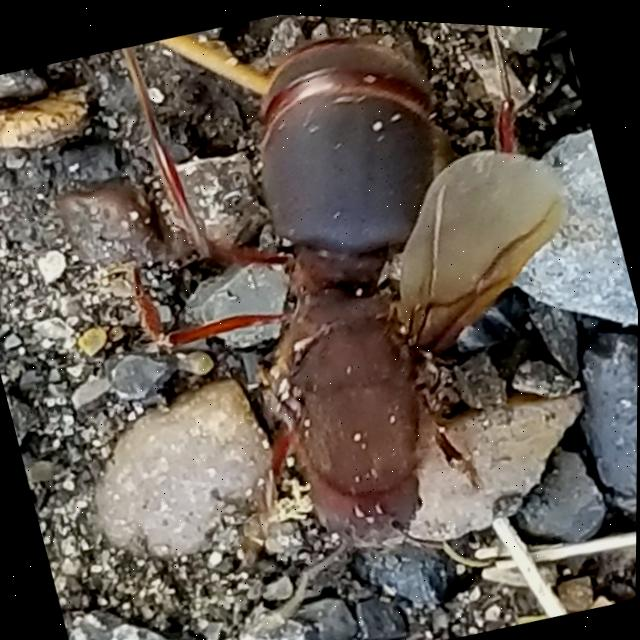Alive-Female-Alate: (67, 3, 640, 640)
